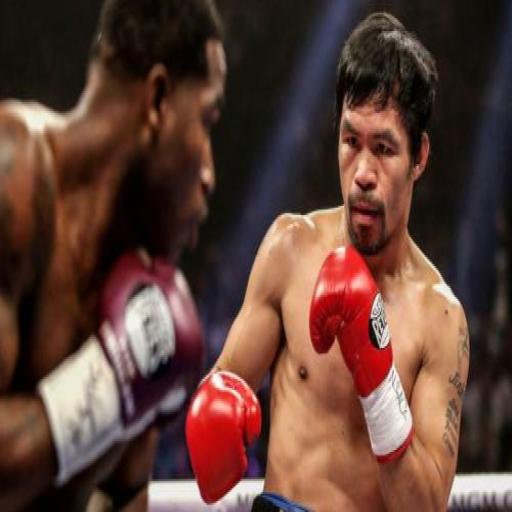boxing: (183, 11, 471, 510), (0, 22, 250, 477)
